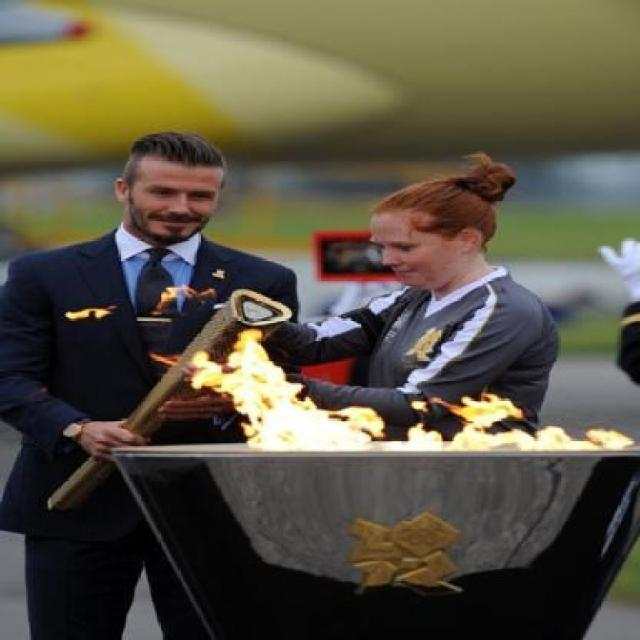Fire: (196, 328, 634, 462), (164, 283, 224, 305), (68, 300, 118, 322)
